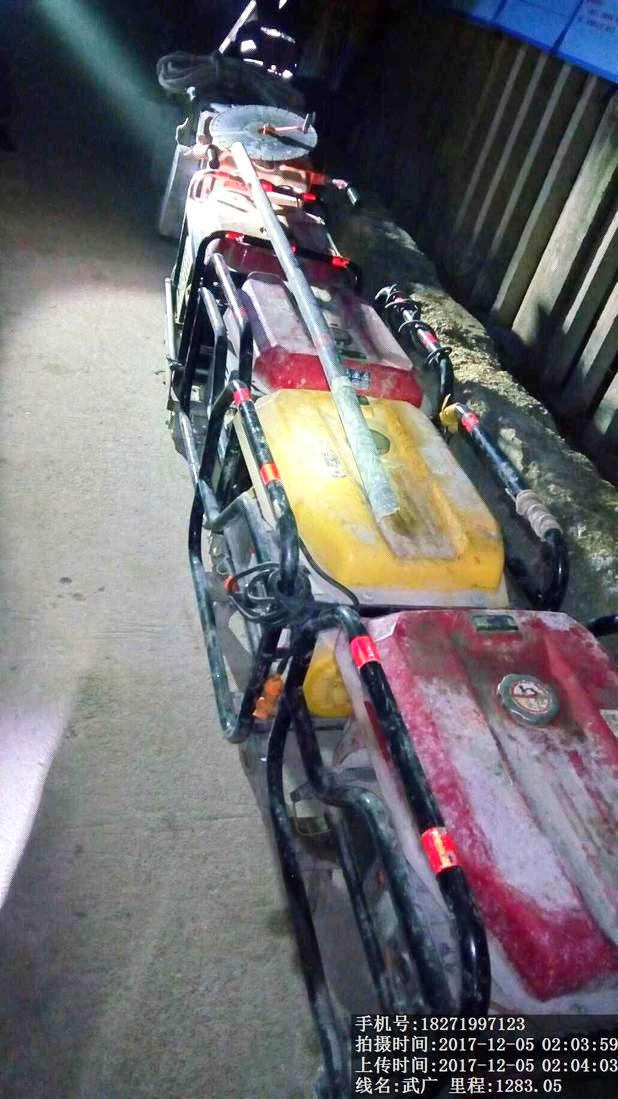DJ: (257, 605, 618, 1019), (198, 391, 572, 605), (172, 264, 459, 398)
